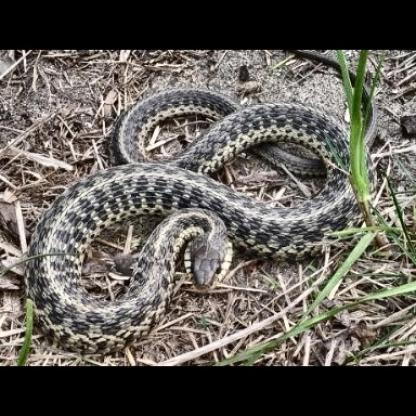Snake: (27, 88, 374, 358)
